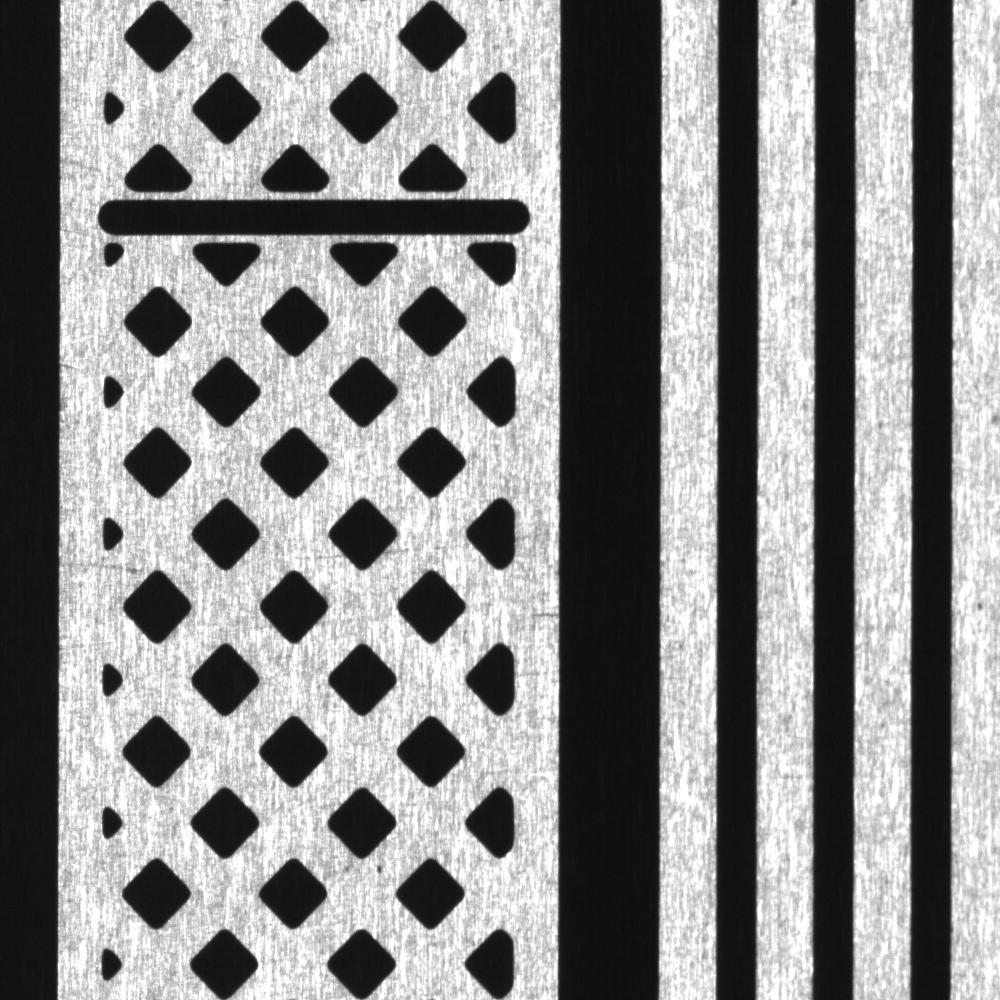Etching: (869, 412, 894, 438), (972, 596, 989, 618)
Scar: (60, 556, 146, 578), (392, 535, 470, 559), (289, 542, 342, 566), (63, 151, 102, 182)
